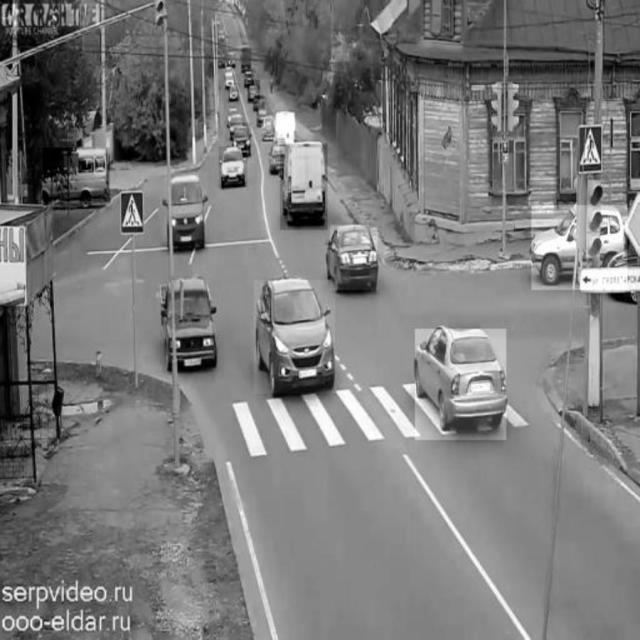vehicle: (416, 329, 507, 440), (254, 281, 335, 394), (532, 205, 628, 289), (160, 281, 215, 365), (280, 144, 327, 230), (43, 147, 110, 201), (164, 173, 208, 245), (329, 225, 377, 289), (219, 147, 247, 188), (235, 40, 257, 75), (231, 122, 251, 150), (262, 115, 278, 143), (248, 80, 260, 104), (226, 83, 240, 103)
